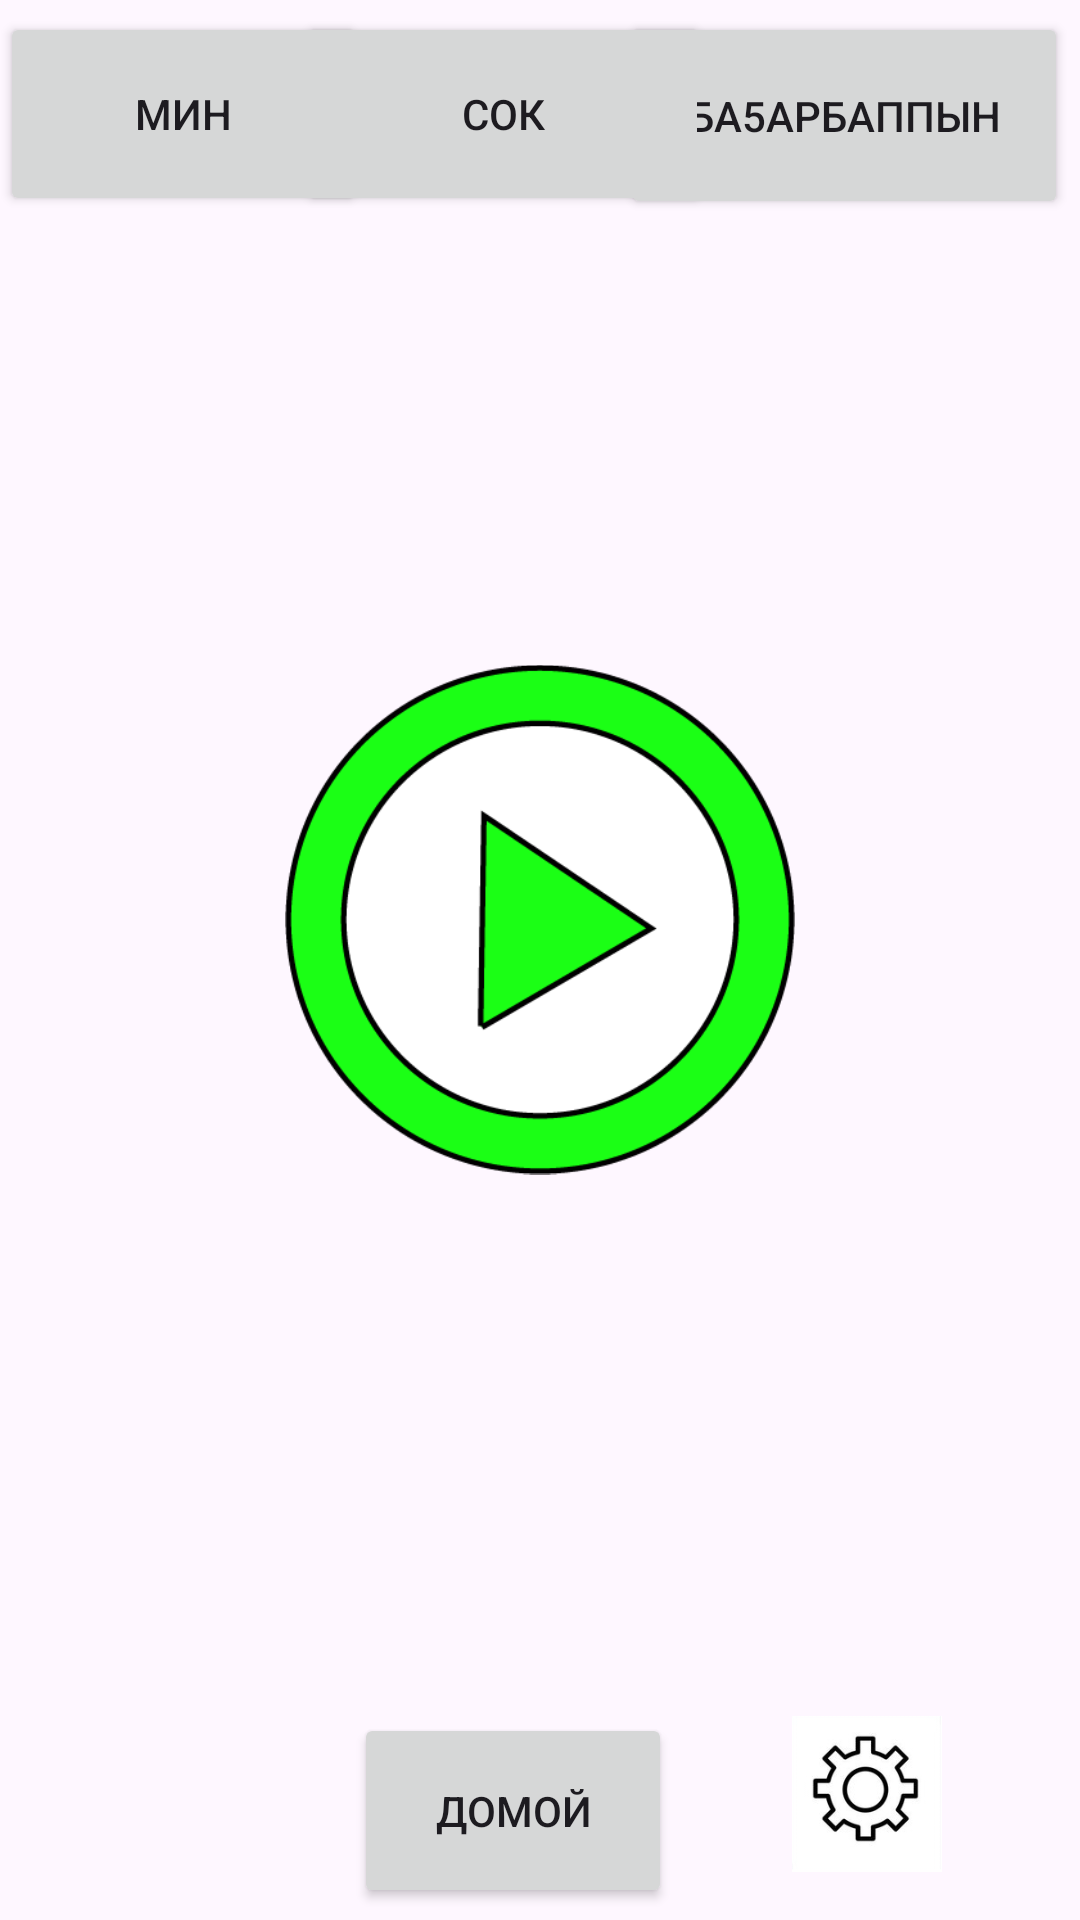

Named icons in this screenshot (1080px x 1920px) and their bounding boxes, BBox(x1, y1, x2, y2):
settings: BBox(812, 1736, 919, 1842)
